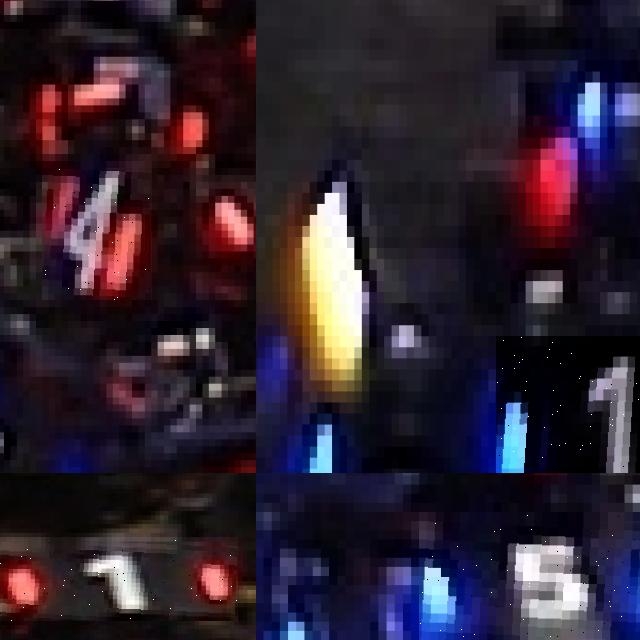B1: (496, 336, 640, 473)
B5: (419, 512, 640, 640)
R1: (0, 537, 238, 620)
R4: (42, 161, 152, 300)
